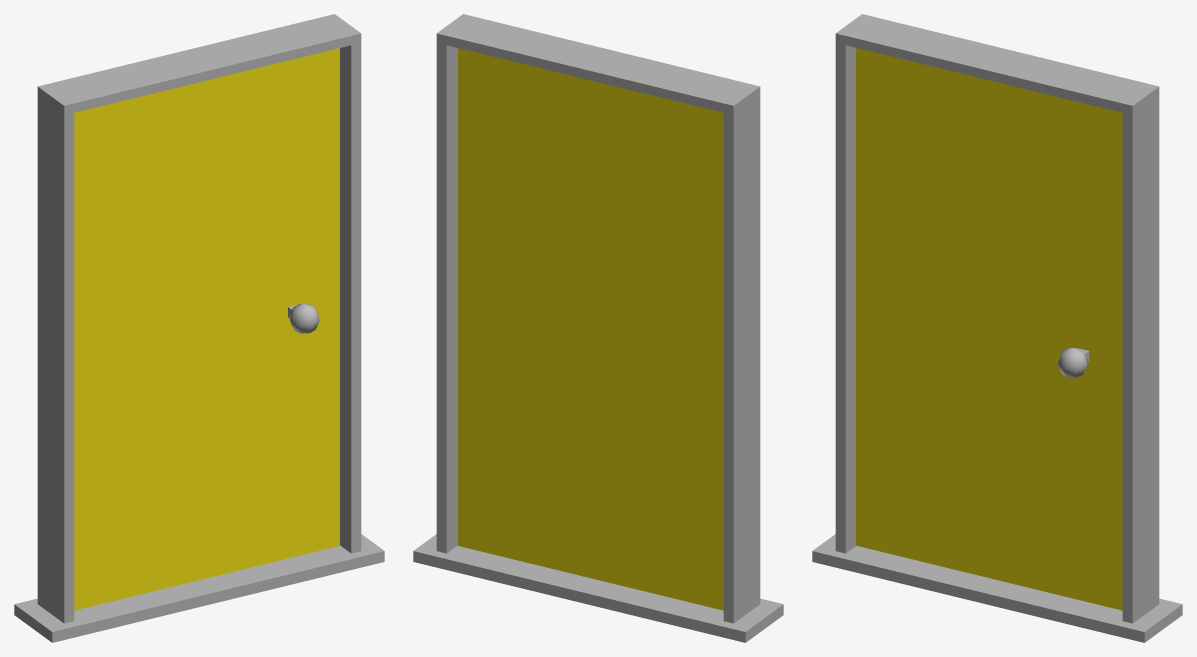
Rendered from Door.FBX.
The picture shows the model from 3 angles, left to right: view 1: azimuth 30°, elevation 25°; view 2: azimuth 150°, elevation 25°; view 3: azimuth 330°, elevation 25°; orthographic projection.
Visible parts, largest first — view 1: Door, DoorFrame; view 2: Door, DoorFrame; view 3: Door, DoorFrame.
Part boxes in pixels (left/top/right/bottom): Door: left=74, top=48, right=339, bottom=610; DoorFrame: left=14, top=14, right=384, bottom=642; Door: left=458, top=48, right=723, bottom=610; DoorFrame: left=413, top=14, right=783, bottom=642; Door: left=856, top=48, right=1122, bottom=610; DoorFrame: left=812, top=14, right=1182, bottom=642.
Size of the model in its own units: 143 by 31.23 by 217.
